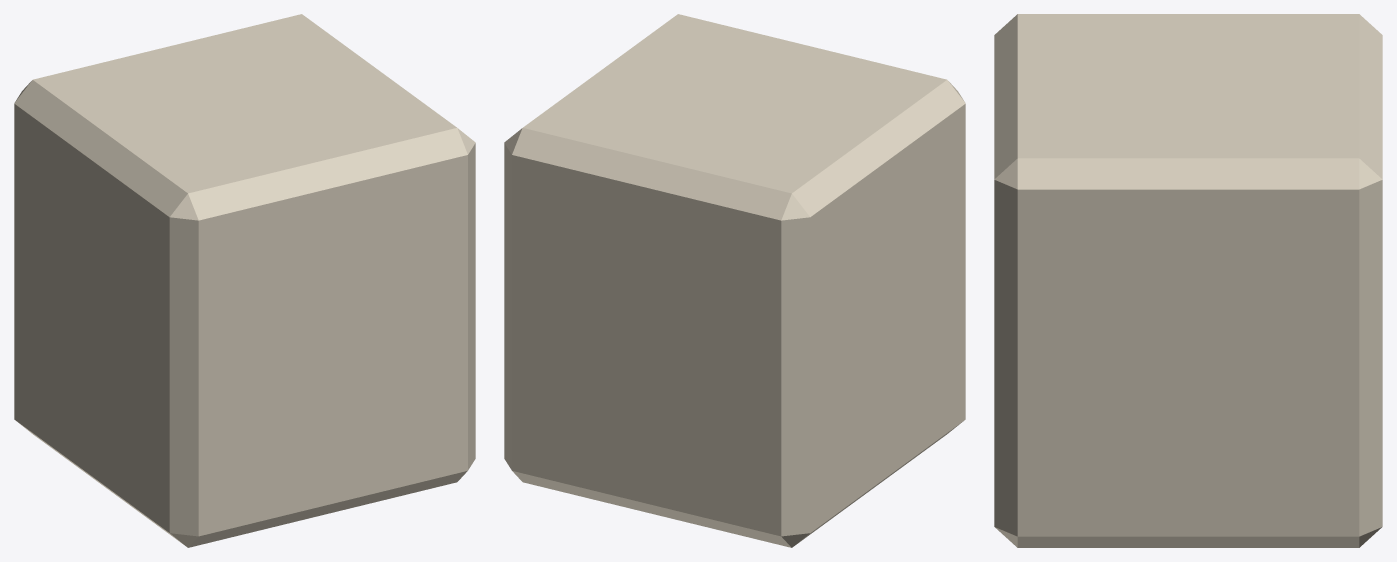
File: block.fbx
3 renders of one model, left to right at view 1: azimuth 30°, elevation 25°; view 2: azimuth 150°, elevation 25°; view 3: azimuth 270°, elevation 25°, orthographic. The views are drawn at different scales.
Visible parts, largest first — view 1: District Block; view 2: District Block; view 3: District Block.
Boxes of the visible parts, x1=… form: District Block: x1=14, y1=14, x2=475, y2=547; District Block: x1=504, y1=14, x2=965, y2=547; District Block: x1=994, y1=14, x2=1382, y2=547.
Bounding box in the file's own units: 28.2 × 31.2 × 28.2.
